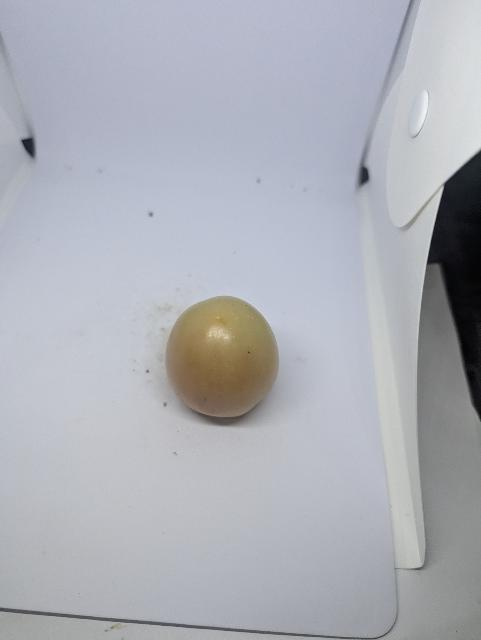breaker: (147, 286, 311, 432)
